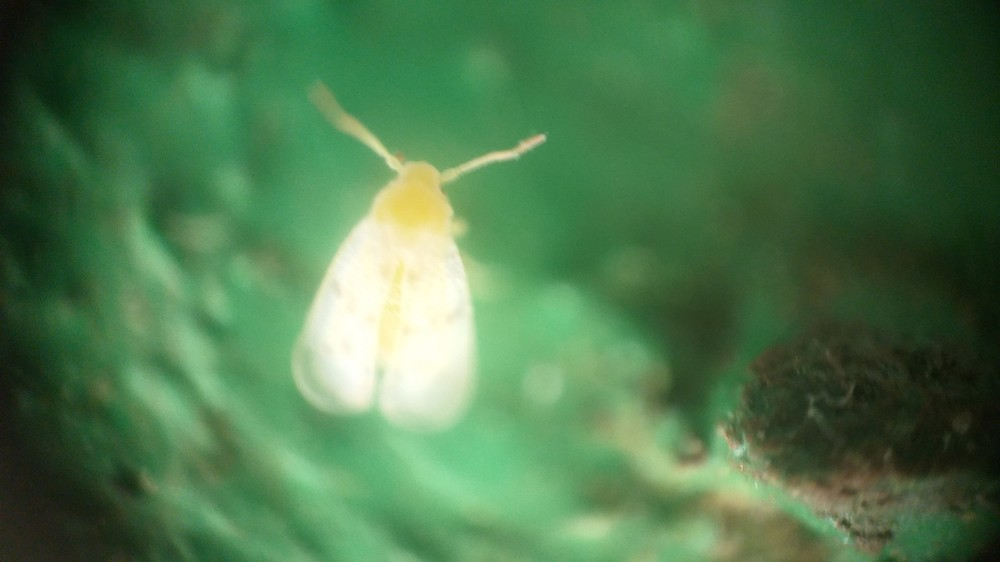Mosca Blanca: (265, 62, 571, 455)
